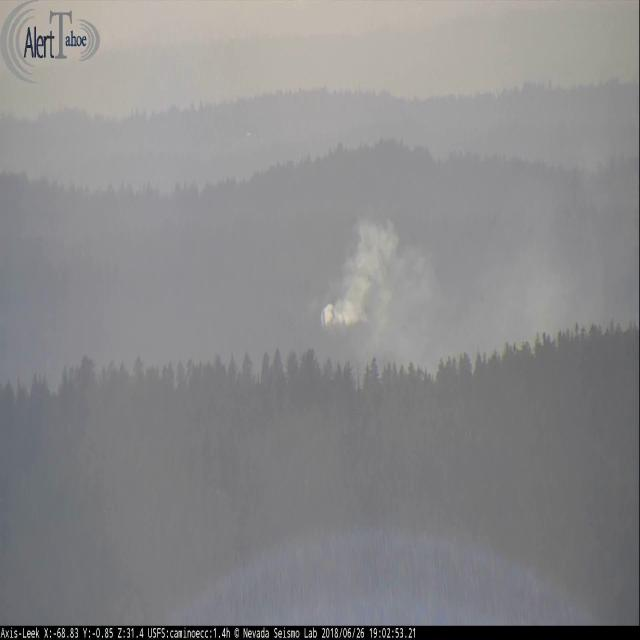smoke: (400, 174, 615, 351), (320, 215, 443, 358)
